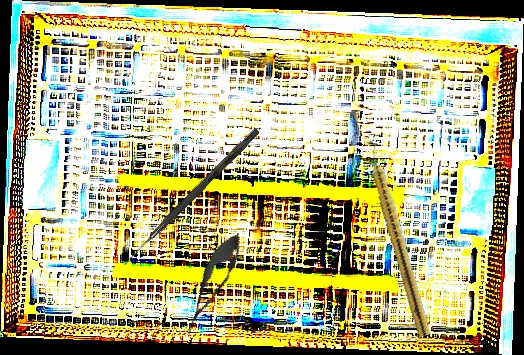Handpiece: (364, 143, 435, 338)
Hook Surgical: (121, 126, 261, 269)
Micro Scissor: (175, 226, 250, 340)
